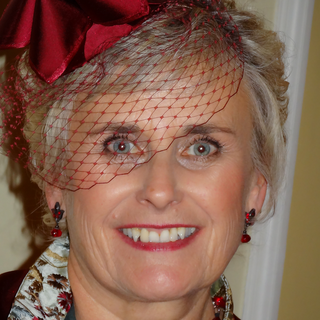eye: (178, 133, 224, 162), (99, 134, 145, 161)
